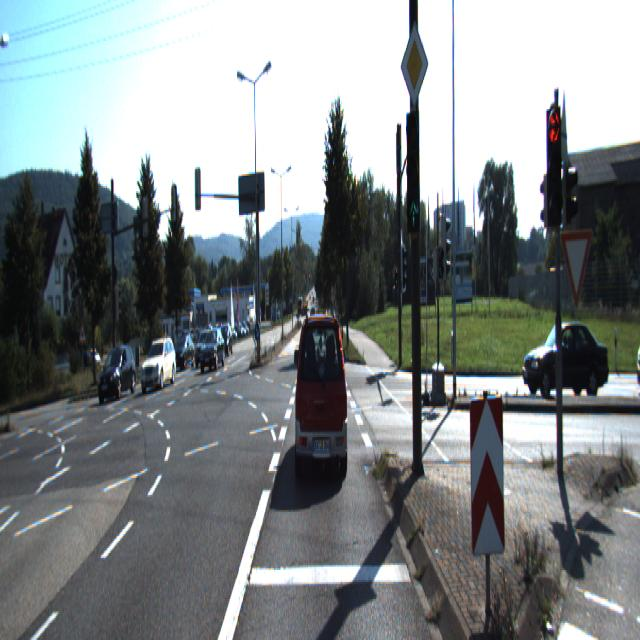Car: (294, 311, 348, 481), (522, 314, 610, 404), (97, 347, 136, 401), (140, 340, 176, 393), (199, 329, 225, 373)
DontCare: (226, 306, 252, 361), (175, 318, 196, 372), (293, 265, 318, 308), (74, 338, 94, 372), (631, 316, 639, 396), (269, 290, 287, 320)
